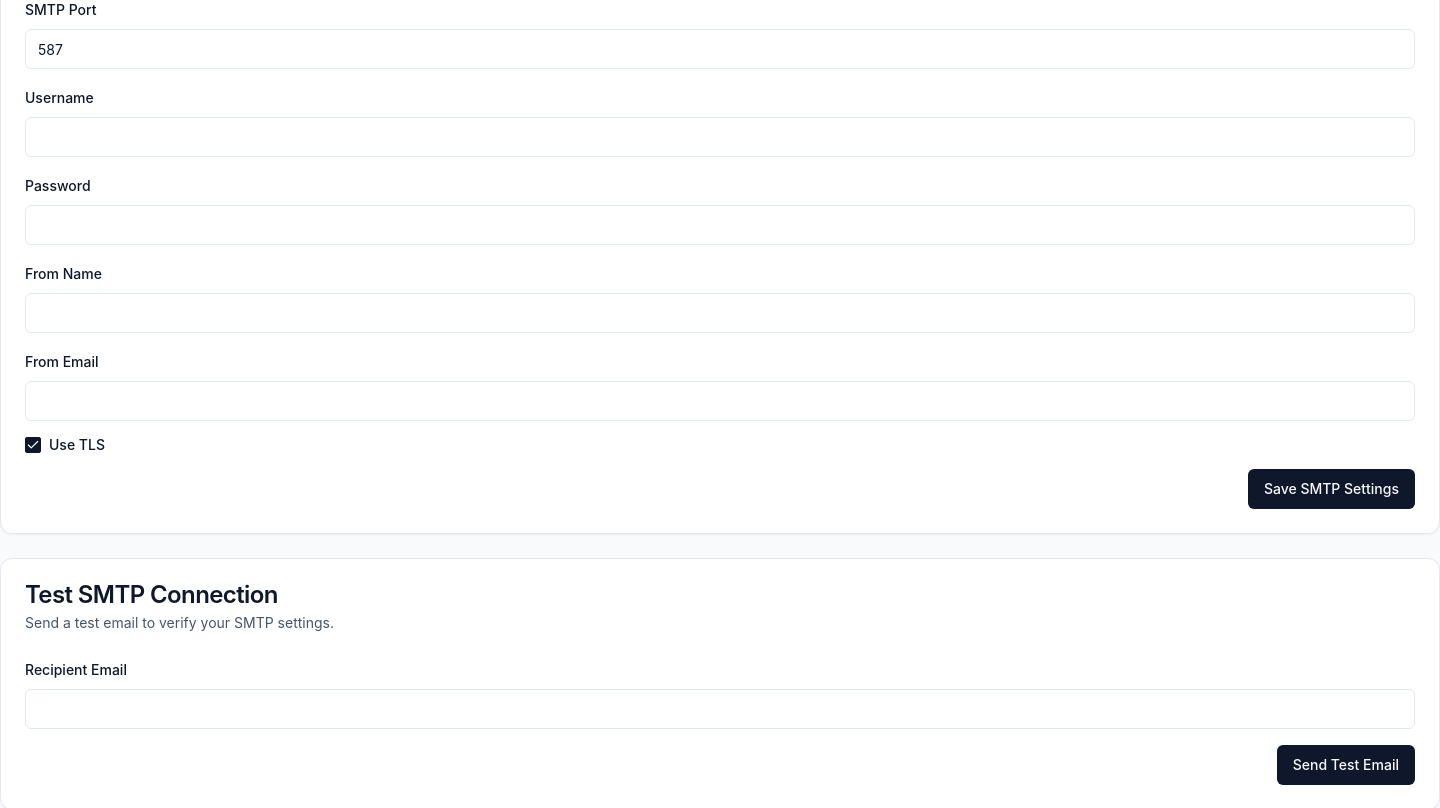
Test case: SmtpPage › sends test email and displays success message
The width and height of the screenshot is (1440, 808).
(page scrolled)
In the field labelled "Recipient Email": (720, 709) top-left (25, 689), bottom-right (1415, 729), type "recipient@example.com"
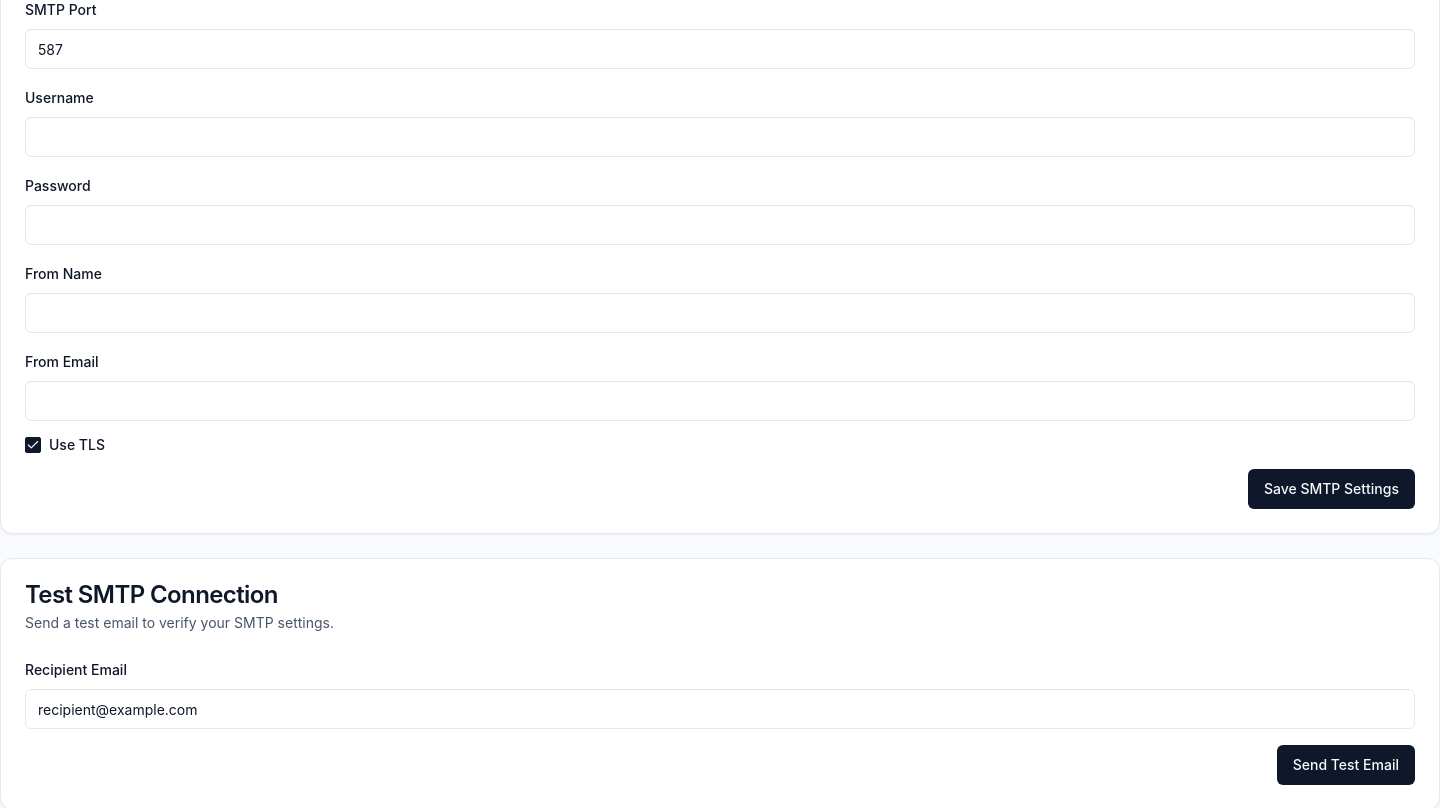
Click the button "Send Test Email": (1346, 765) top-left (1277, 745), bottom-right (1415, 785)
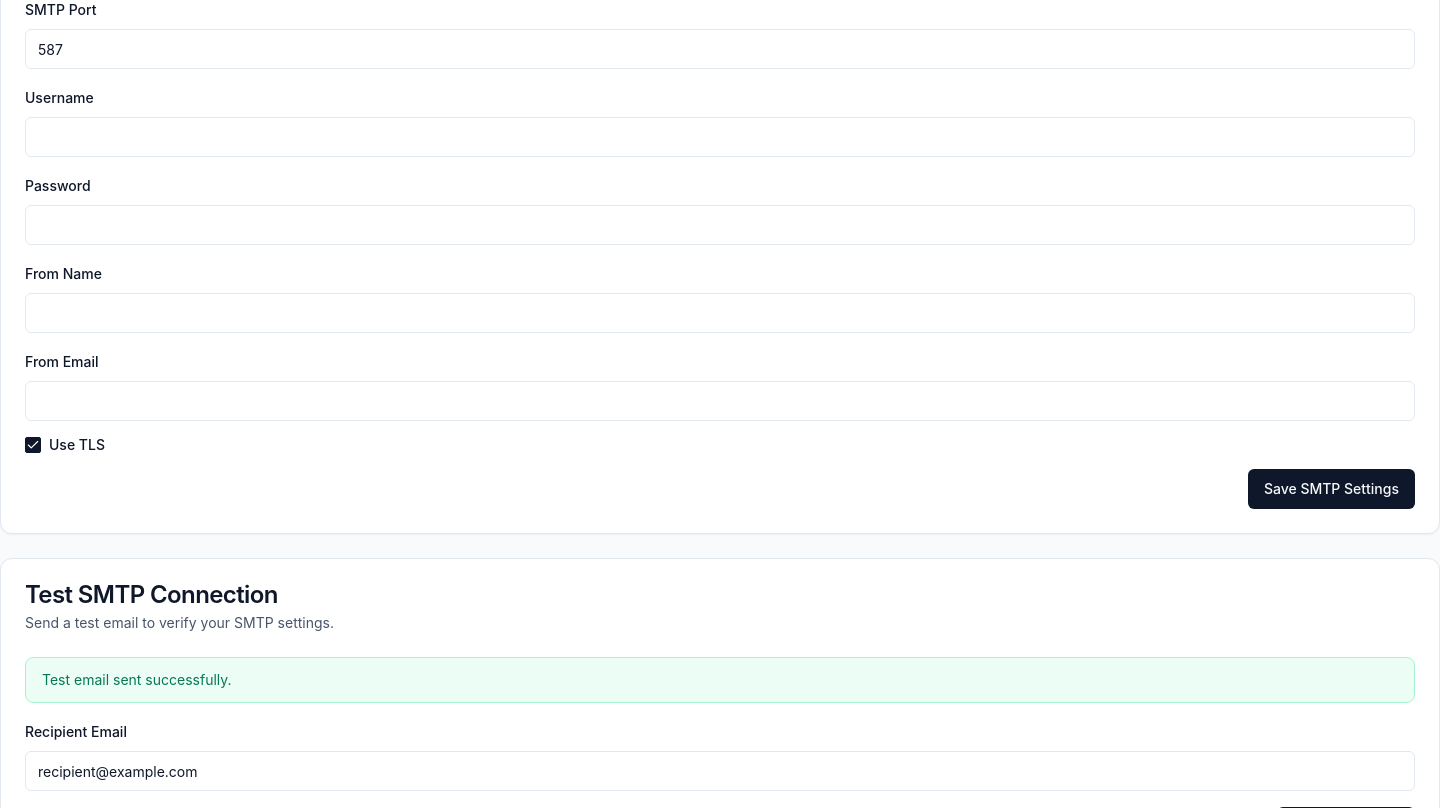
Check: the text "Test email sent successfully." is shown, box top-left (25, 657), bottom-right (1415, 703)
